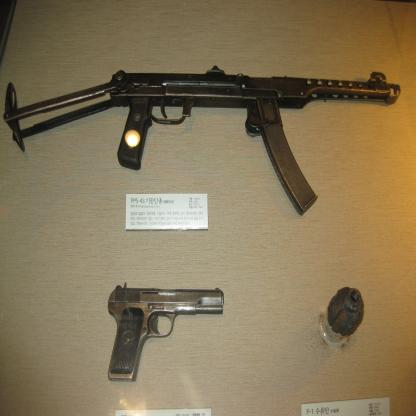Grenade: (326, 284, 365, 340)
Gun: (3, 64, 401, 215)
Pistol: (107, 280, 225, 385)
